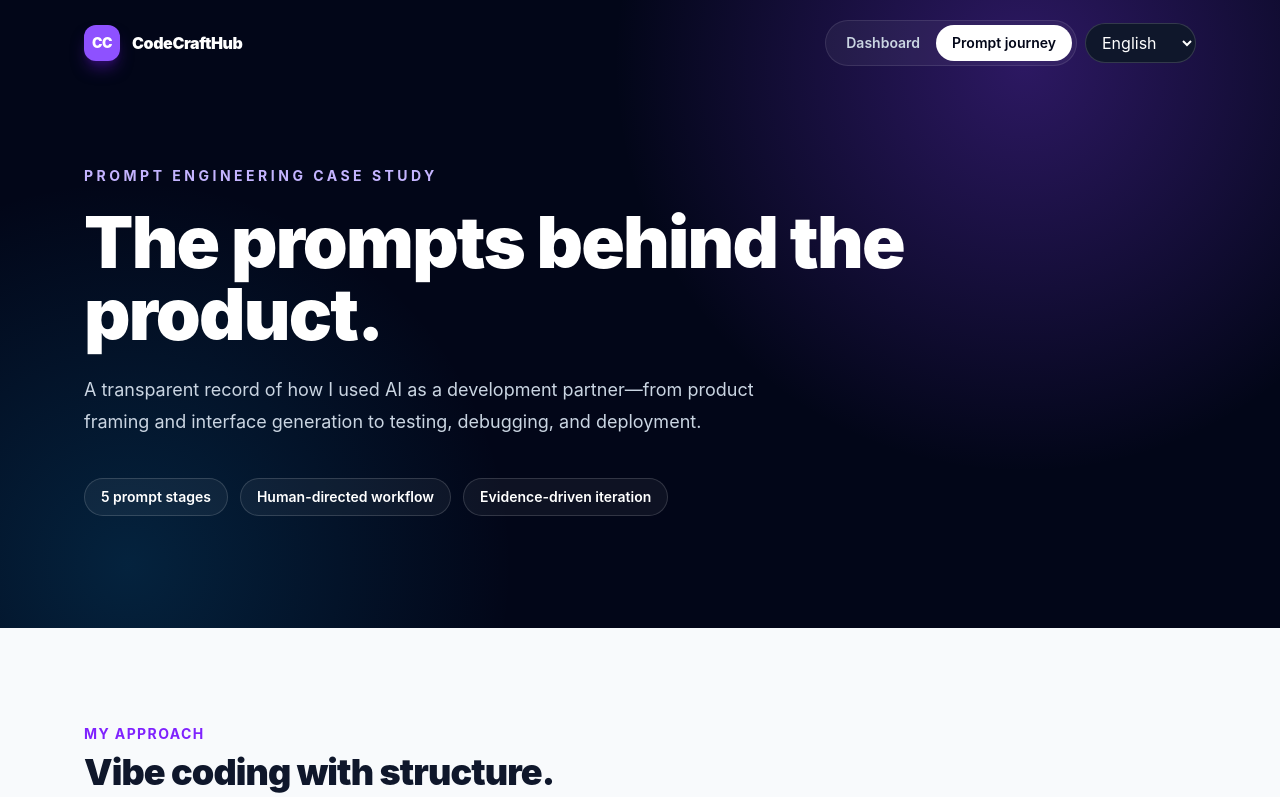
Test: Prompt journey page › translates Chinese prompts and keeps Arabic prompts in English
Step 1. Select "简体中文" in the dropdown named "Language" → (1140, 43), box 1085,23 -> 1196,63
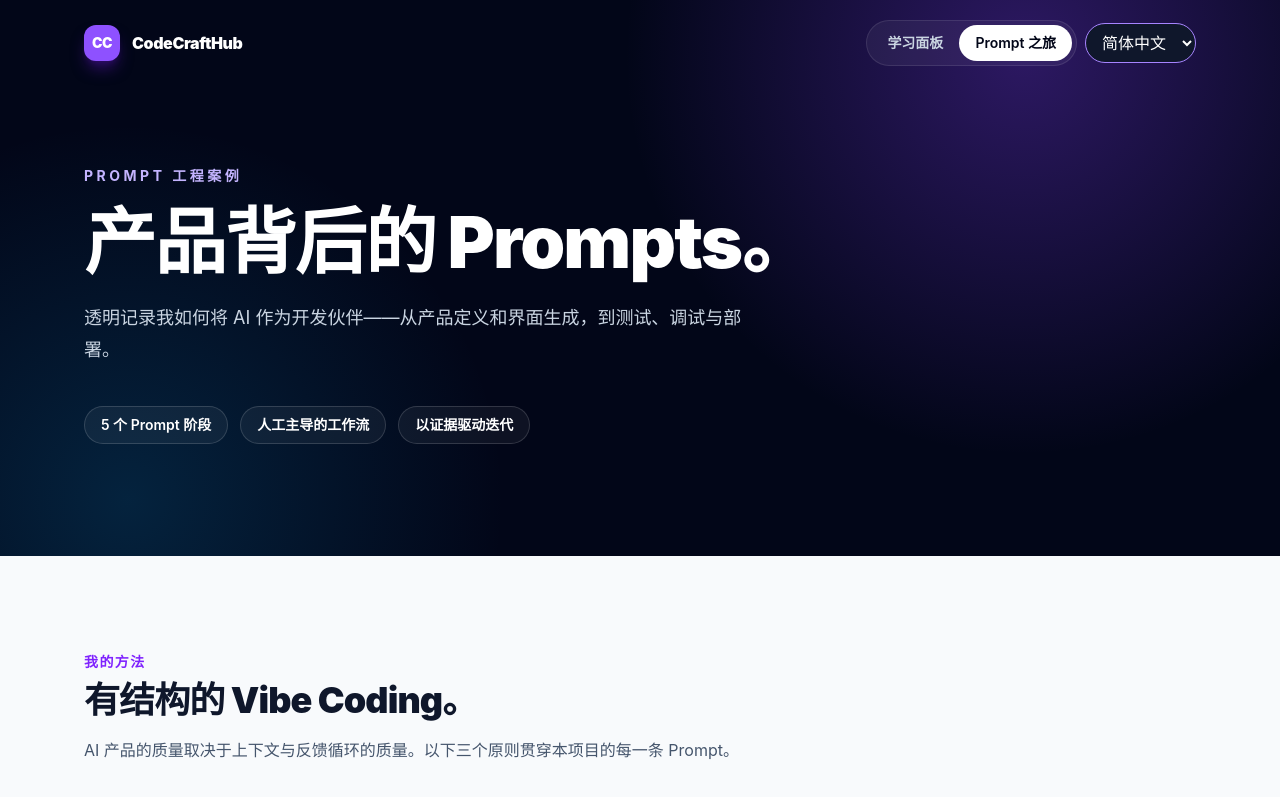
Expected: the heading "产品背后的 Prompts。" is shown, 84,198 -> 812,285
Step 2. Select "العربية" in the dropdown named "Language" → (1140, 43), box 1085,23 -> 1196,63
(page scrolled)
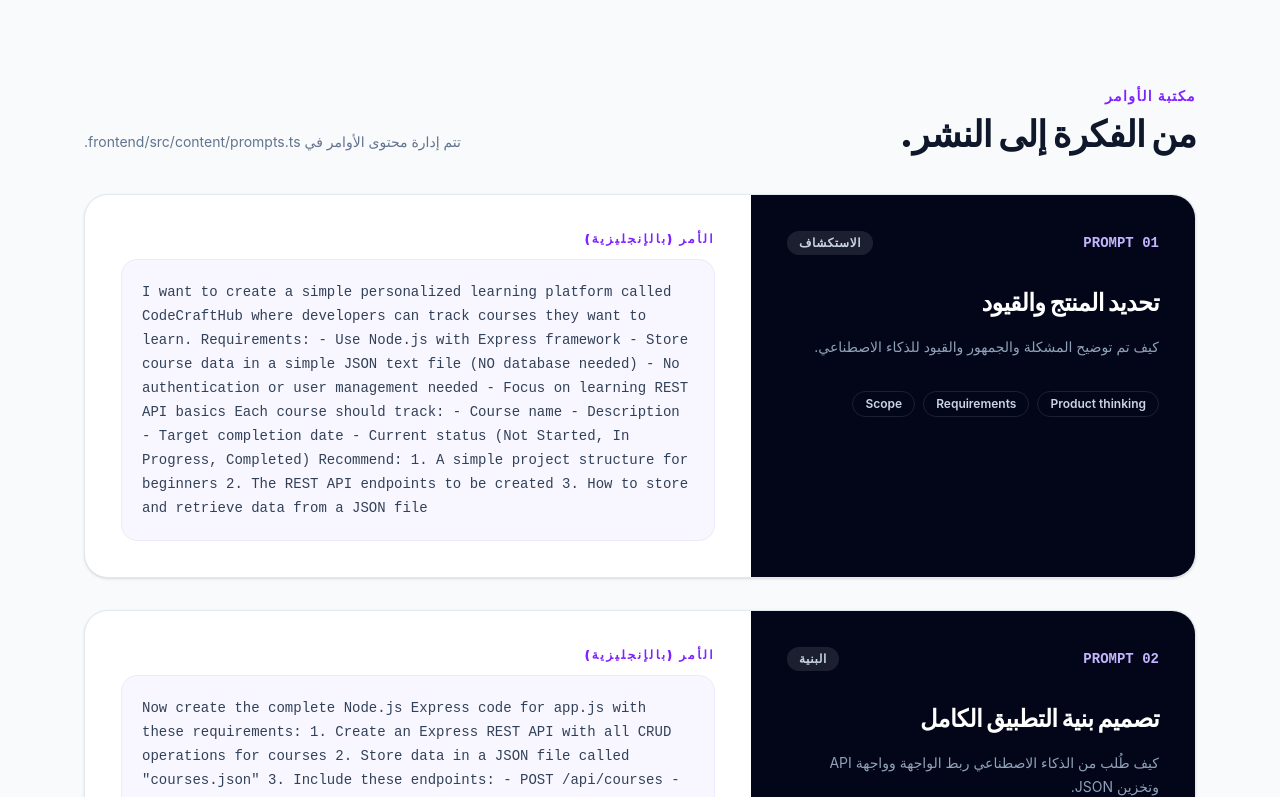
Expected: the text "I want to create a simple personalized learning platform" is shown, 142,284 -> 696,516
